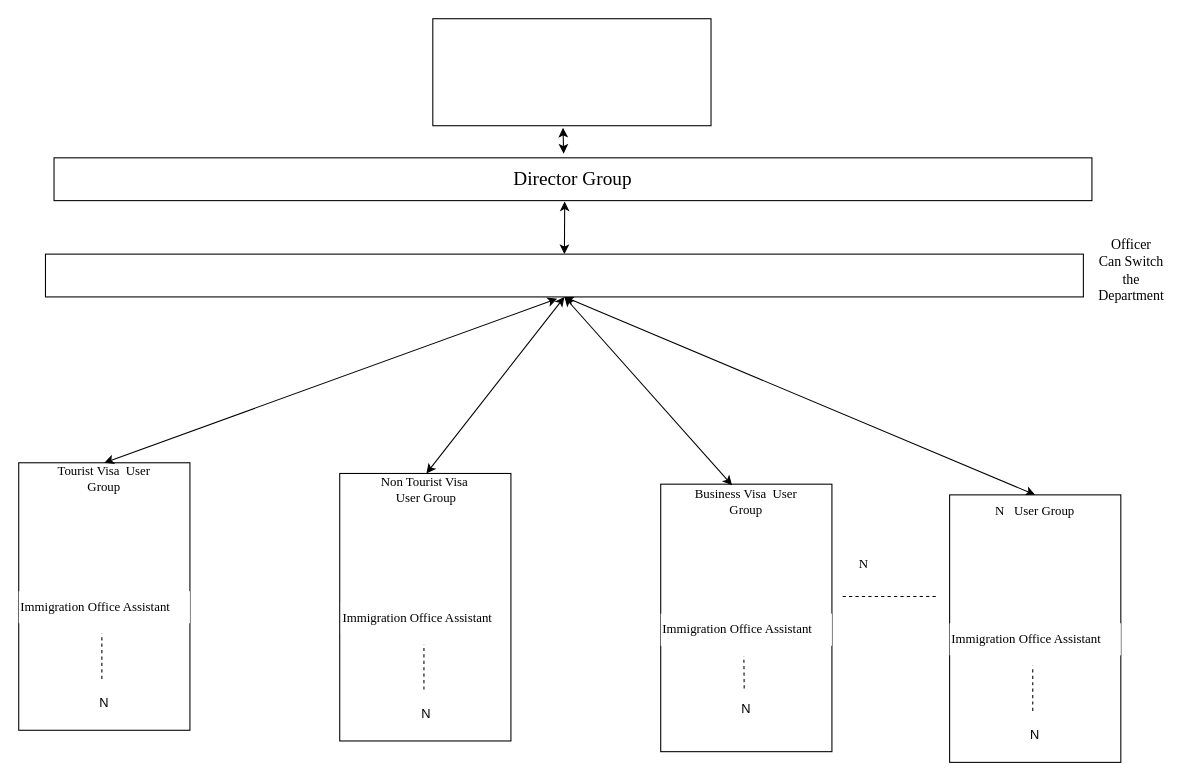
This 1182x781 diagram has some shape labels left out. The shapes that lost their labels are listed below. From the top down, each one's box as (x1, y1, x2, y2) in pixels, then its label:
(432, 18, 711, 126): Director General
(44, 253, 1083, 297): Officers Group
